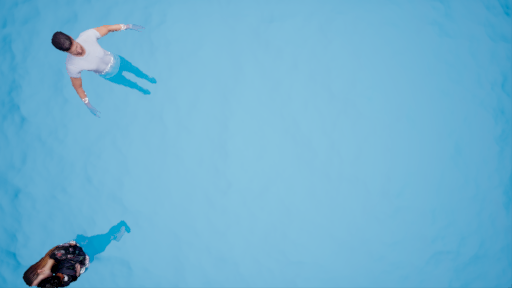person: (49, 20, 152, 103), (15, 221, 116, 288)
